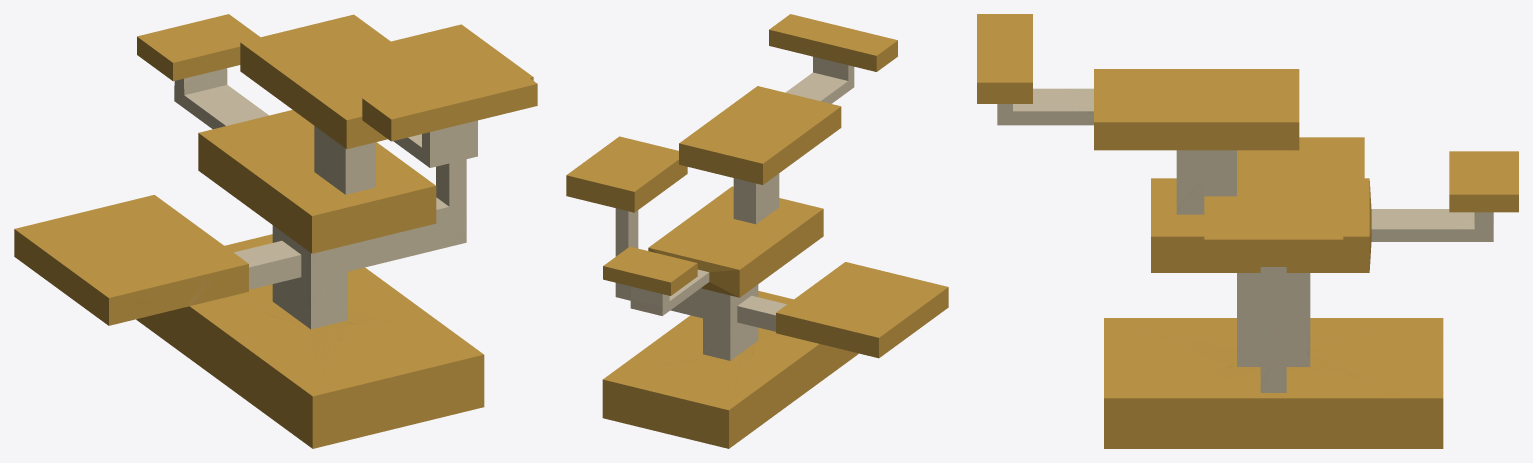
Rendered from RascaGato.fbx.
3 views of the same model, side by side, from view 1: azimuth 30°, elevation 25°; view 2: azimuth 150°, elevation 25°; view 3: azimuth 270°, elevation 25° (orthographic). The views are drawn at different scales.
Visible parts, largest first — view 1: RascadorGato(mapeado); view 2: RascadorGato(mapeado); view 3: RascadorGato(mapeado).
Part boxes in pixels (x1=…): RascadorGato(mapeado): x1=14, y1=14, x2=537, y2=448; RascadorGato(mapeado): x1=566, y1=14, x2=948, y2=448; RascadorGato(mapeado): x1=977, y1=14, x2=1518, y2=448.
Size of the model in its own units: 1671 by 1372 by 1870.
